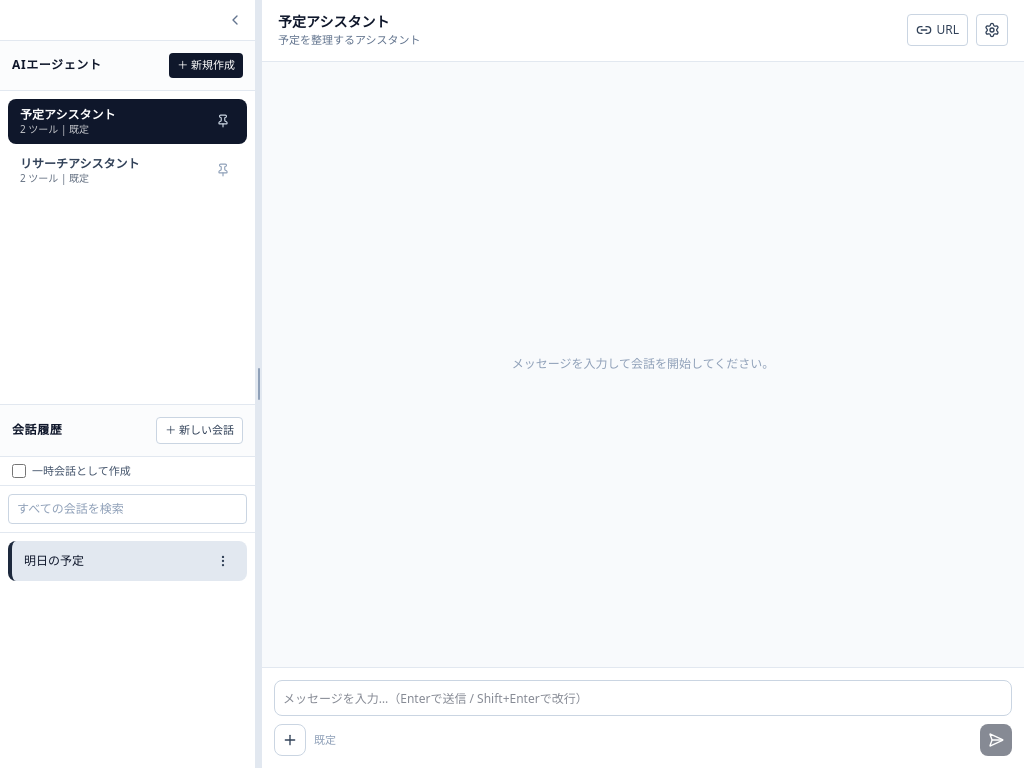
Test case: AgentsPage › searches messages across agents and opens the exact matching message
Type "横断検索" into the search field named "会話履歴を検索" at (128, 509), box [8,494,247,524]
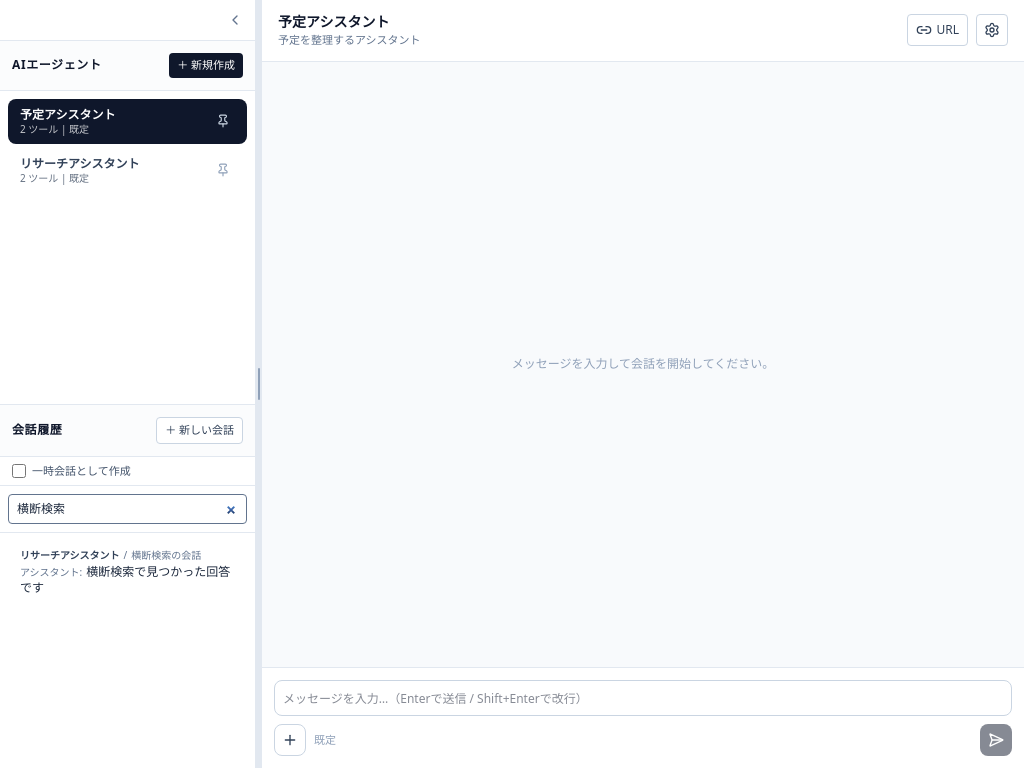
Expected: the text "リサーチアシスタント" below "一時会話として作成" is shown, [20,549,120,562]
Click the button with test id "agent-message-search-result-msg_other_hit" at (128, 573), box [8,541,247,604]
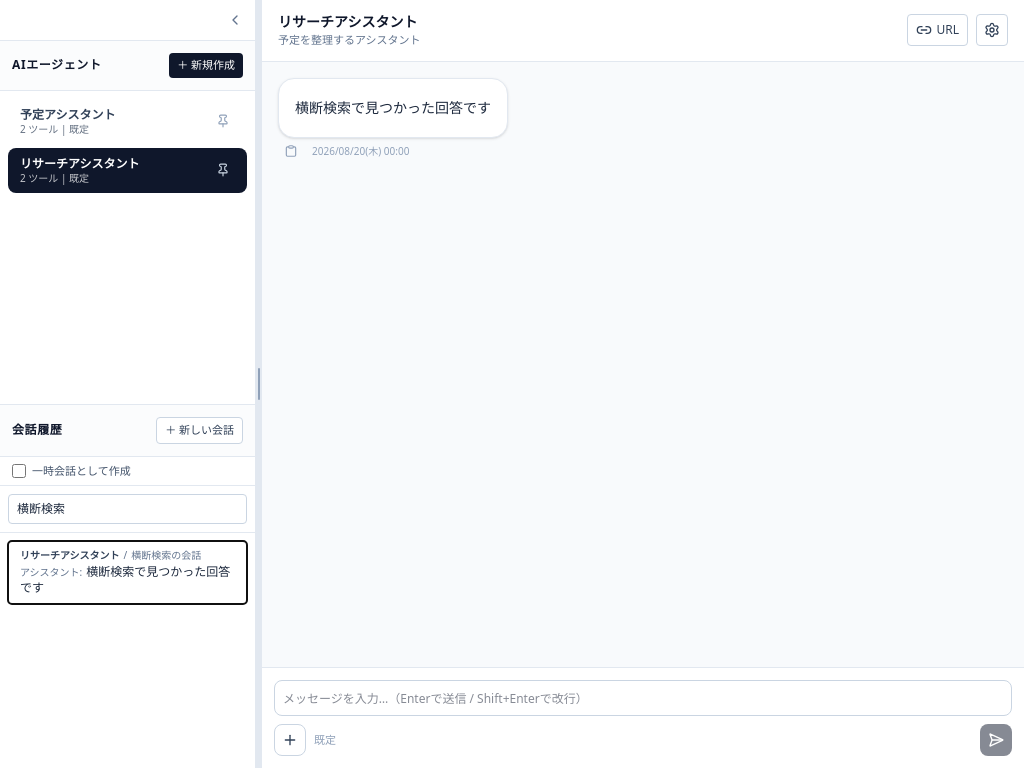
Expected: the element showing "横断検索で見つかった回答です 2026/08/20(木) 00:00" is shown, [278,78,508,160]
